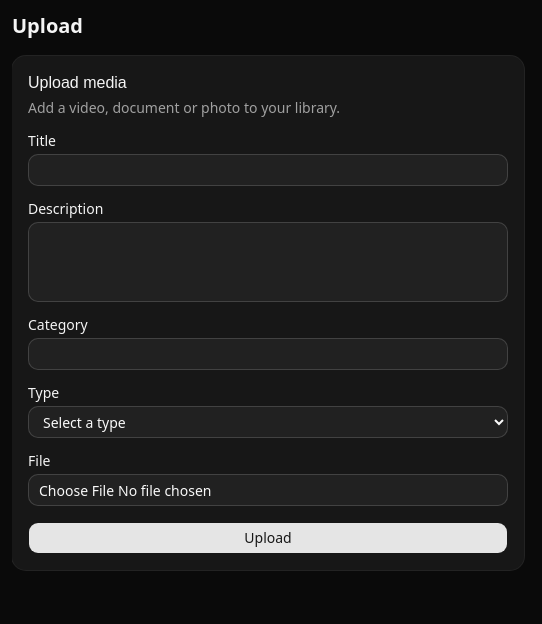
Test: UploadPage › shows a validation error and does not upload when type is missing
The image size is (542, 624).
In the field labelled "Title": (268, 170) [28,154,508,186], type "Holiday clip"
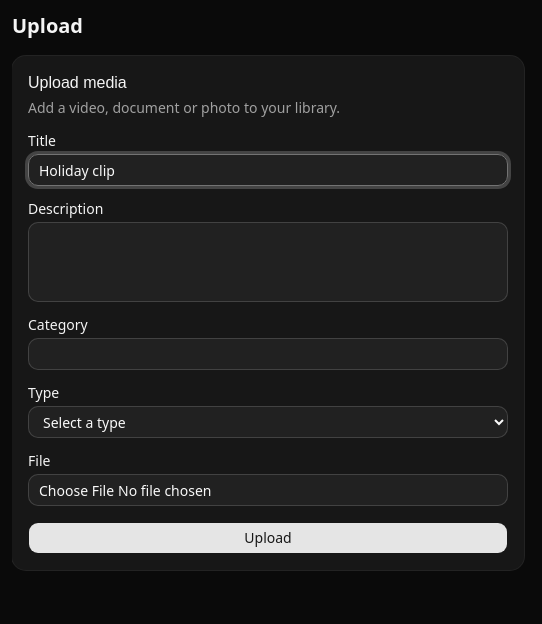
Click the button "Upload": (268, 538) [28,522,508,554]
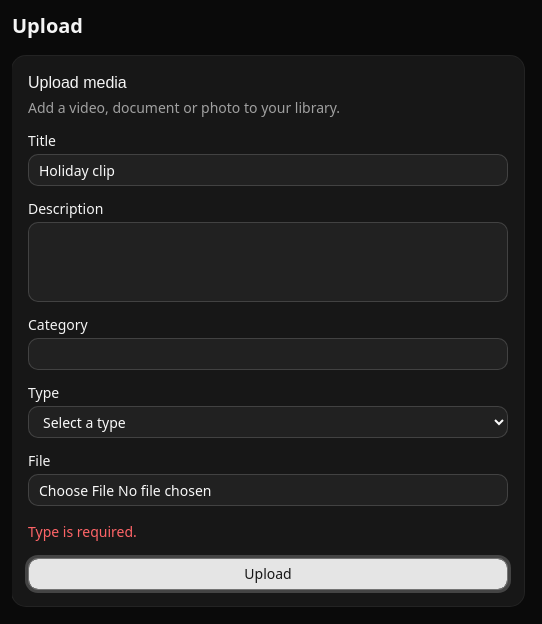
Check: the text "Type is required." is shown, box [28,522,137,541]
